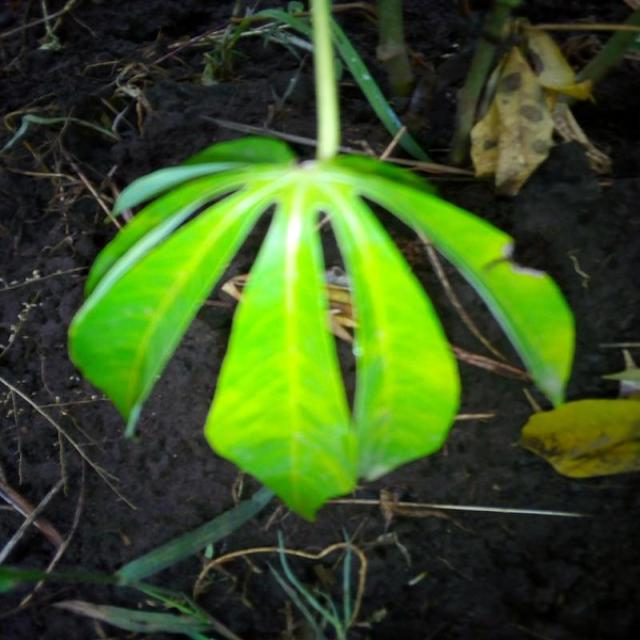cassava leaf: (66, 134, 576, 522), (519, 395, 639, 479)
